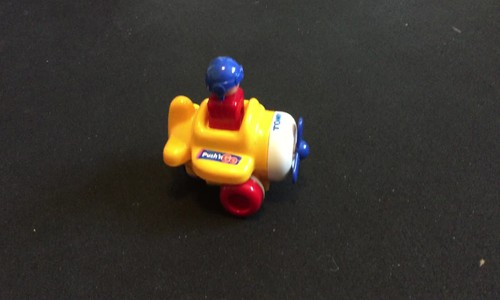toy: (162, 56, 312, 224)
